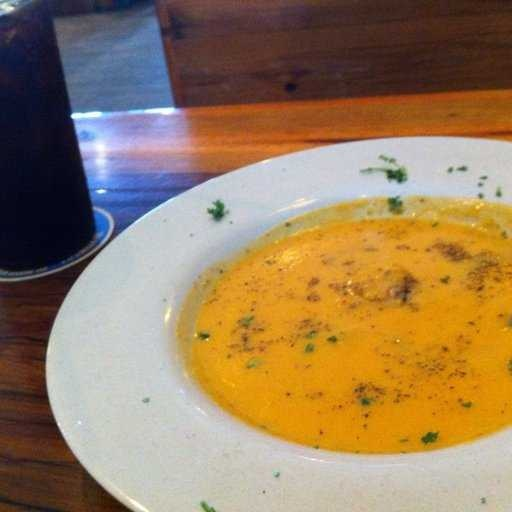soup: (165, 173, 512, 491)
